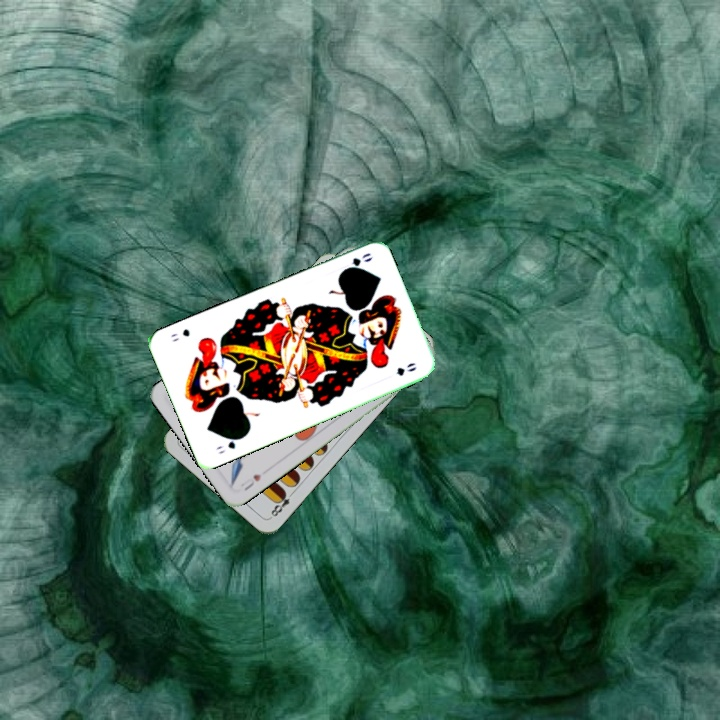E8: (266, 487, 297, 520)
GO: (338, 249, 376, 275), (212, 432, 246, 457)
HU: (236, 470, 264, 493)
